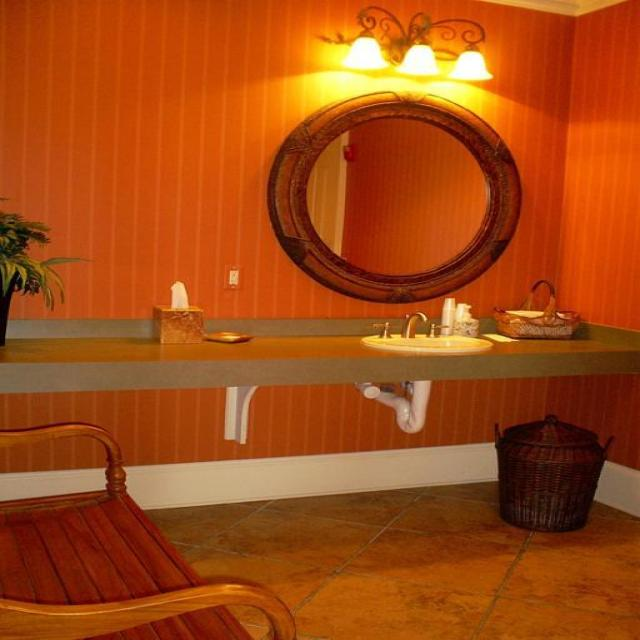crib: (491, 278, 581, 338)
faucet: (400, 311, 428, 338)
plants: (0, 195, 94, 347)
pots: (491, 413, 614, 532)
stairs: (0, 419, 292, 638)
window: (265, 90, 521, 304)
